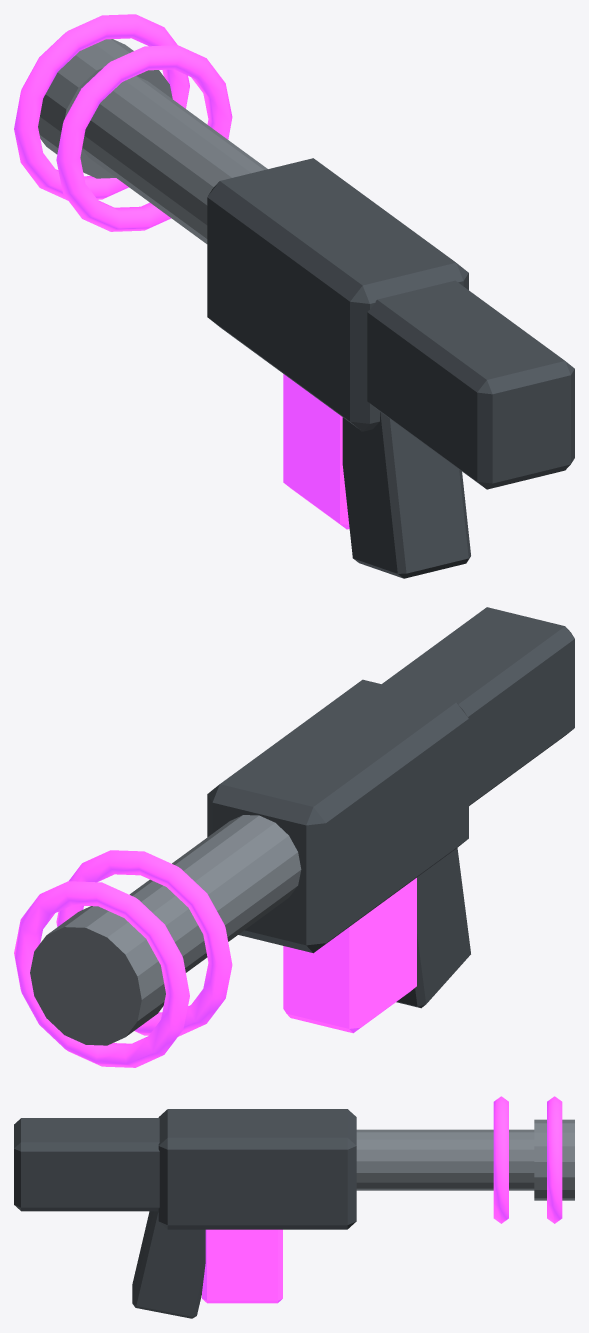
Rendered from WPN_PlasmaCannon_Singularity_FP_v01.glb.
The picture shows the model from 3 angles, top to bottom: view 1: azimuth 30°, elevation 25°; view 2: azimuth 150°, elevation 25°; view 3: azimuth 270°, elevation 25°; orthographic projection. The views are drawn at different scales.
Visible parts, largest first — view 1: MESH_Weapon, MESH_AcceleratorRing_A, MESH_AcceleratorRing_B, MESH_EnergyCell; view 2: MESH_Weapon, MESH_EnergyCell, MESH_AcceleratorRing_B, MESH_AcceleratorRing_A; view 3: MESH_Weapon, MESH_EnergyCell, MESH_AcceleratorRing_A, MESH_AcceleratorRing_B.
Part boxes in pixels (x1=…): MESH_Weapon: x1=38, y1=39, x2=574, y2=578; MESH_AcceleratorRing_A: x1=56, y1=45, x2=232, y2=231; MESH_AcceleratorRing_B: x1=14, y1=14, x2=189, y2=200; MESH_EnergyCell: x1=283, y1=374, x2=349, y2=529; MESH_Weapon: x1=30, y1=607, x2=574, y2=1045; MESH_EnergyCell: x1=283, y1=878, x2=416, y2=1033; MESH_AcceleratorRing_B: x1=14, y1=881, x2=189, y2=1067; MESH_AcceleratorRing_A: x1=56, y1=850, x2=232, y2=1036; MESH_Weapon: x1=14, y1=1109, x2=574, y2=1318; MESH_EnergyCell: x1=202, y1=1229, x2=282, y2=1303; MESH_AcceleratorRing_A: x1=493, y1=1096, x2=508, y2=1223; MESH_AcceleratorRing_B: x1=547, y1=1096, x2=562, y2=1223.
Bounding box in the file's own units: 0.252 × 0.4502 × 1.1.
